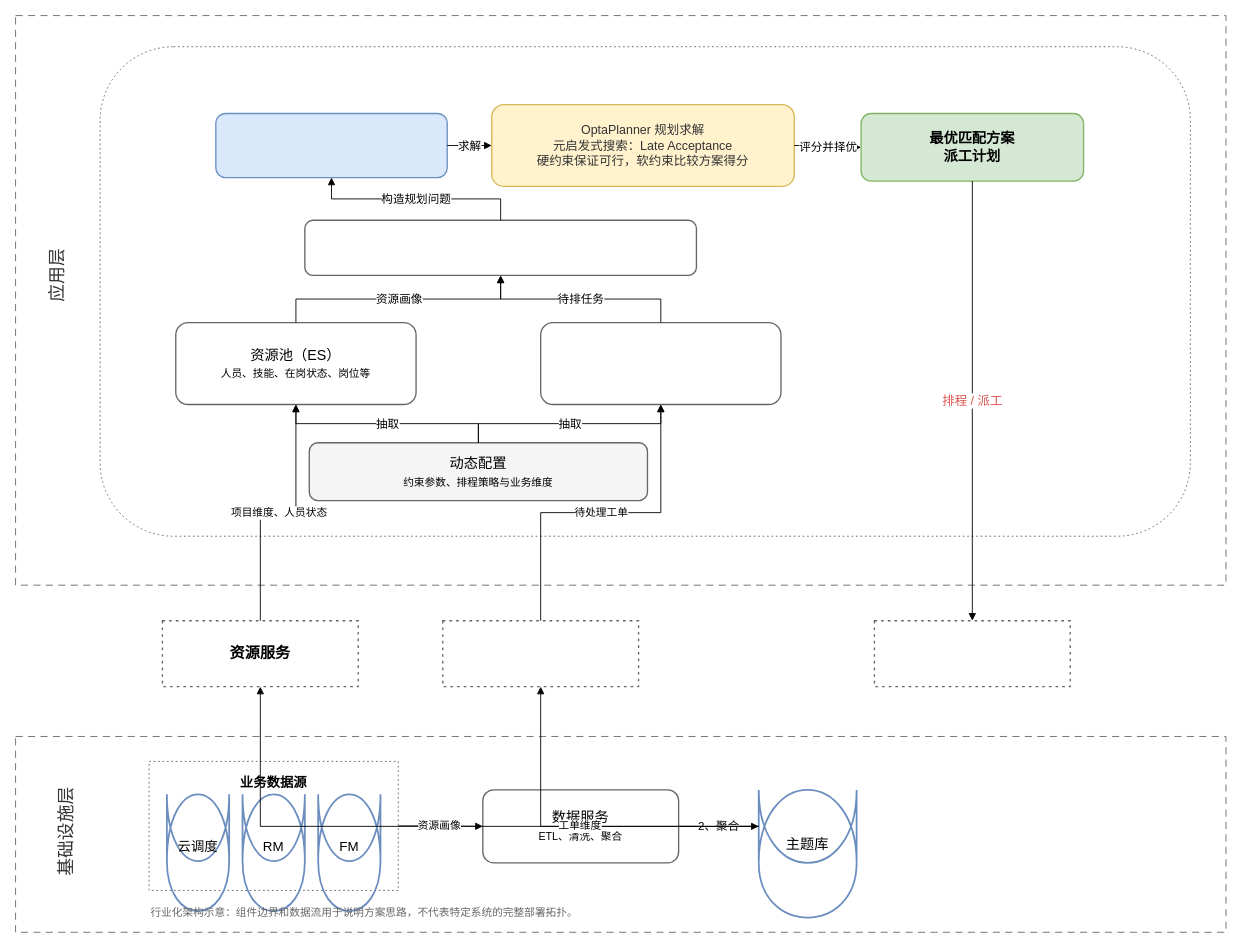
Some shapes in this 1242 by 948 pixel diagram are drawn without their labels. The box of each missing label's shape, as (x1, y1, x2, y2) in pixels:
FM 工单服务: (873, 620, 1070, 687)
任务缓存池（Redis） 待排工单与任务上下文: (540, 322, 781, 405)
分布式任务调度: (304, 219, 697, 276)
工单服务: (442, 620, 639, 687)
智能派单集群: (215, 112, 447, 178)
规划调度服务: (99, 46, 1190, 536)
